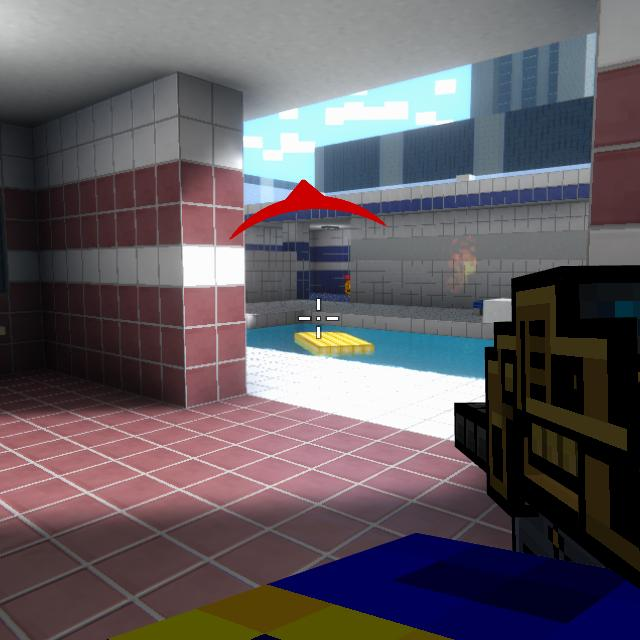Enemy: (346, 278, 351, 295)
